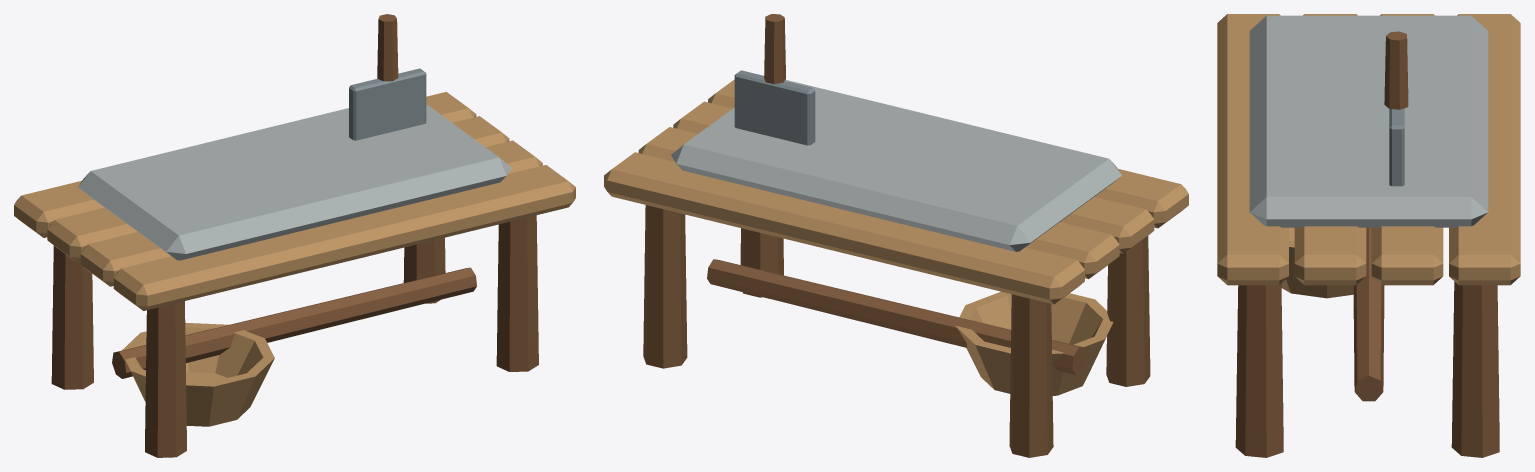
File: CC_ButcherTable.fbx
3 renders of one model, left to right at view 1: azimuth 30°, elevation 25°; view 2: azimuth 150°, elevation 25°; view 3: azimuth 270°, elevation 25°, orthographic. The views are drawn at different scales.
Parts seen in each view (by area): view 1: Cutting slab, Plank.012, Brace.003, Catch basin, Leg.014, Leg.012, Leg.013, Blade, Plank.013, Plank.015, Plank.014, Leg.015 (+1 smaller); view 2: Cutting slab, Plank.015, Brace.003, Catch basin, Leg.015, Leg.013, Leg.012, Blade, Plank.014, Plank.013, Plank.012, Leg.014 (+1 smaller); view 3: Cutting slab, Plank.012, Plank.015, Leg.015, Leg.014, Plank.013, Plank.014, Brace.003, Handle, Blade, Catch basin.
Boxes of the visible parts, x1,y1,x2,y2 form: Cutting slab: (78, 104, 511, 260); Plank.012: (113, 165, 575, 310); Brace.003: (112, 267, 476, 378); Catch basin: (122, 322, 274, 426); Leg.014: (496, 215, 538, 371); Leg.012: (145, 301, 186, 457); Leg.013: (51, 246, 93, 389); Blade: (349, 68, 426, 140); Plank.013: (80, 140, 542, 286); Plank.015: (14, 92, 476, 237); Plank.014: (47, 116, 509, 262); Leg.015: (403, 237, 445, 303); Cutting slab: (671, 79, 1121, 251); Plank.015: (604, 152, 1084, 304); Brace.003: (707, 259, 1086, 374); Catch basin: (955, 291, 1113, 395); Leg.015: (643, 205, 687, 368); Leg.013: (1009, 294, 1053, 457); Leg.012: (1106, 236, 1150, 386); Blade: (734, 70, 815, 145); Plank.014: (638, 127, 1119, 279); Plank.013: (673, 101, 1154, 253); Plank.012: (708, 79, 1188, 228); Leg.014: (740, 228, 783, 297); Cutting slab: (1249, 15, 1488, 227); Plank.012: (1217, 14, 1288, 285); Plank.015: (1449, 14, 1520, 285); Leg.015: (1451, 281, 1499, 457); Leg.014: (1235, 283, 1283, 457); Plank.013: (1294, 14, 1366, 285); Plank.014: (1371, 14, 1443, 285); Brace.003: (1353, 227, 1384, 401); Handle: (1384, 31, 1408, 109); Blade: (1389, 108, 1404, 186); Catch basin: (1281, 227, 1353, 298).
Size of the model in its own units: 2.1 by 1.46 by 1.08.
